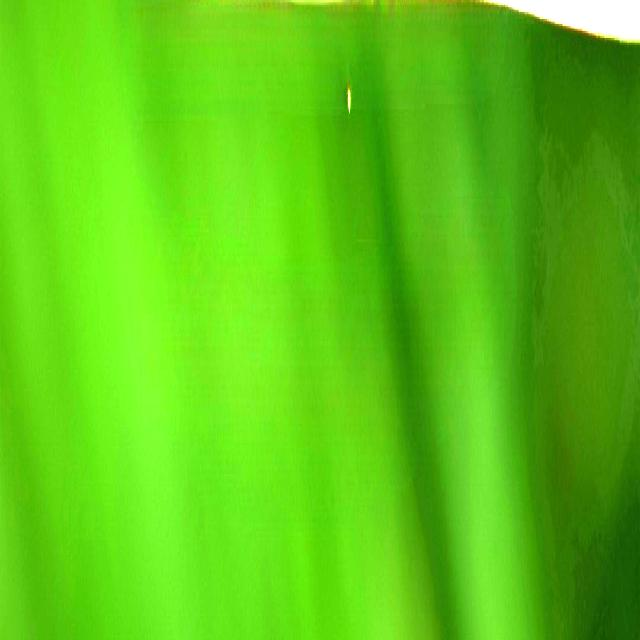BLB: (497, 0, 639, 29)
